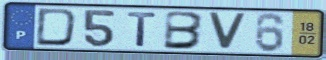5: (82, 8, 118, 49)
6: (253, 11, 286, 54)
B: (162, 10, 207, 51)
D: (34, 7, 80, 48)
T: (126, 11, 159, 48)
V: (206, 11, 249, 52)
